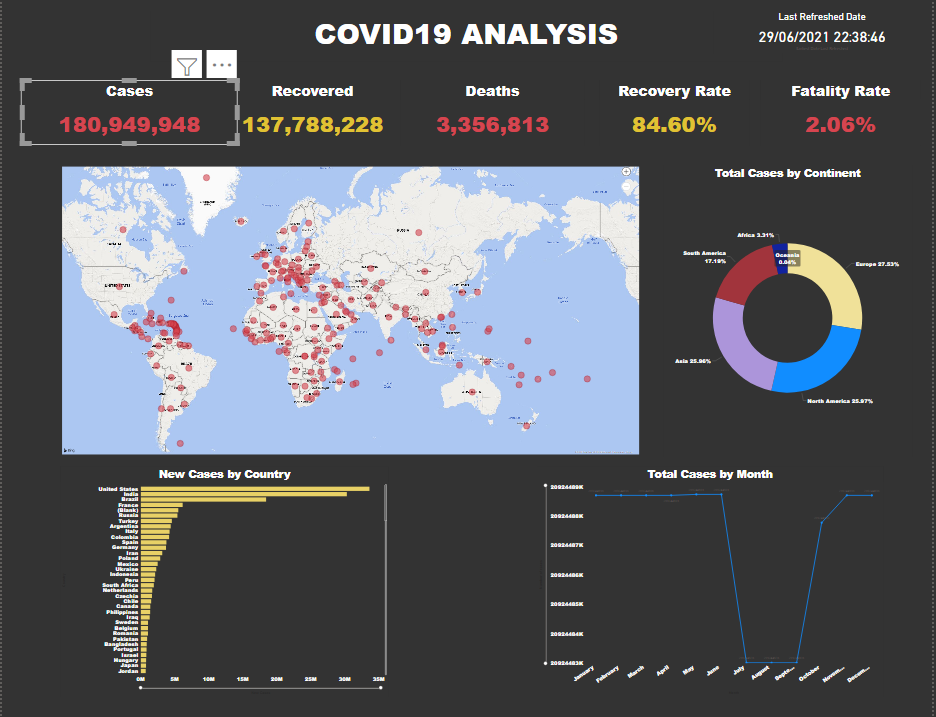

Layout of this report page (visuals, bound fields, positions):
{"tool":"powerbi","page":{"name":"Page 1","canvas":[3500,2800],"ordinal":0},"visuals":[{"type":"textbox","box":[561.4,119.5,2377.1,197.1],"z":0},{"type":"map","fields":{"Category":["covid_data1.Country","covid_data3.Continent"]},"box":[221,686.9,2036.7,1122.9],"z":1000},{"type":"card","title":"Fatality Rate","fields":{"Values":["covid_data1.Fatality Rate"]},"box":[2753.4,1140.8,704.8,376.3],"z":2000},{"type":"card","title":"Recovery Rate","fields":{"Values":["covid_data1.Recovery Rate"]},"box":[2753.4,430,704.8,322.5],"z":3000},{"type":"slicer","fields":{"Values":["covid_data3.Date"]},"box":[221,430,967.6,197.1],"z":4000},{"type":"card","title":"Total Recovered Cases","fields":{"Values":["Sum(covid_data1.Recovered cases)"]},"box":[2753.4,770.5,740.6,328.5],"z":5000},{"type":"card","title":"Total Death cases","fields":{"Values":["Sum(covid_data1.Number of Deaths)"]},"box":[2801.2,1564.8,692.8,316.6],"z":6000},{"type":"donutChart","fields":{"Series":["covid_data3.Continent"],"Y":["Sum(covid_data3.Total Cases)"]},"box":[1302,2072.5,895.9,621.2],"z":7000},{"type":"lineChart","title":"Total Cases by Month","fields":{"Category":["covid_data3.Date.Variation.Date Hierarchy.Month"],"Y":["Sum(covid_data1.Recovered cases)","Sum(covid_data1.Confirmed Cases)"]},"box":[2335.3,2012.8,1122.9,740.6],"z":7001},{"type":"barChart","fields":{"Category":["covid_data1.Country"],"Y":["Sum(covid_data3.Total Cases)"]},"box":[208.5,2011.3,1036.6,681.7],"z":7002},{"type":"card","title":"Total Cases","fields":{"Values":["Sum(covid_data3.Total Cases)"]},"box":[1439.4,430,818.3,197.1],"z":7003}]}

Visuals, with their boxes in screenshot pixels (x1, y1, x2, y2):
textbox: <bbox>224, 39, 803, 87</bbox>
map - covid_data1.Country x covid_data3.Continent: <bbox>142, 177, 637, 450</bbox>
"Fatality Rate" card: <bbox>758, 287, 930, 379</bbox>
"Recovery Rate" card: <bbox>758, 114, 930, 193</bbox>
slicer - covid_data3.Date: <bbox>142, 114, 377, 162</bbox>
"Total Recovered Cases" card: <bbox>758, 197, 935, 277</bbox>
"Total Death cases" card: <bbox>770, 391, 935, 468</bbox>
donutChart - covid_data3.Continent x Sum(covid_data3.Total Cases): <bbox>405, 514, 623, 666</bbox>
"Total Cases by Month" lineChart: <bbox>656, 500, 930, 680</bbox>
barChart - covid_data1.Country x Sum(covid_data3.Total Cases): <bbox>139, 499, 391, 665</bbox>
"Total Cases" card: <bbox>438, 114, 637, 162</bbox>
